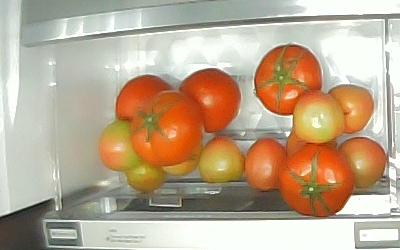tomato: (130, 90, 204, 165), (279, 143, 353, 216), (254, 42, 323, 115), (179, 68, 240, 134), (293, 91, 345, 145), (116, 75, 174, 120), (338, 138, 388, 188), (244, 137, 286, 192), (328, 84, 374, 134), (199, 134, 244, 183), (100, 120, 142, 171), (163, 132, 203, 176), (127, 159, 165, 193), (285, 129, 310, 161)
